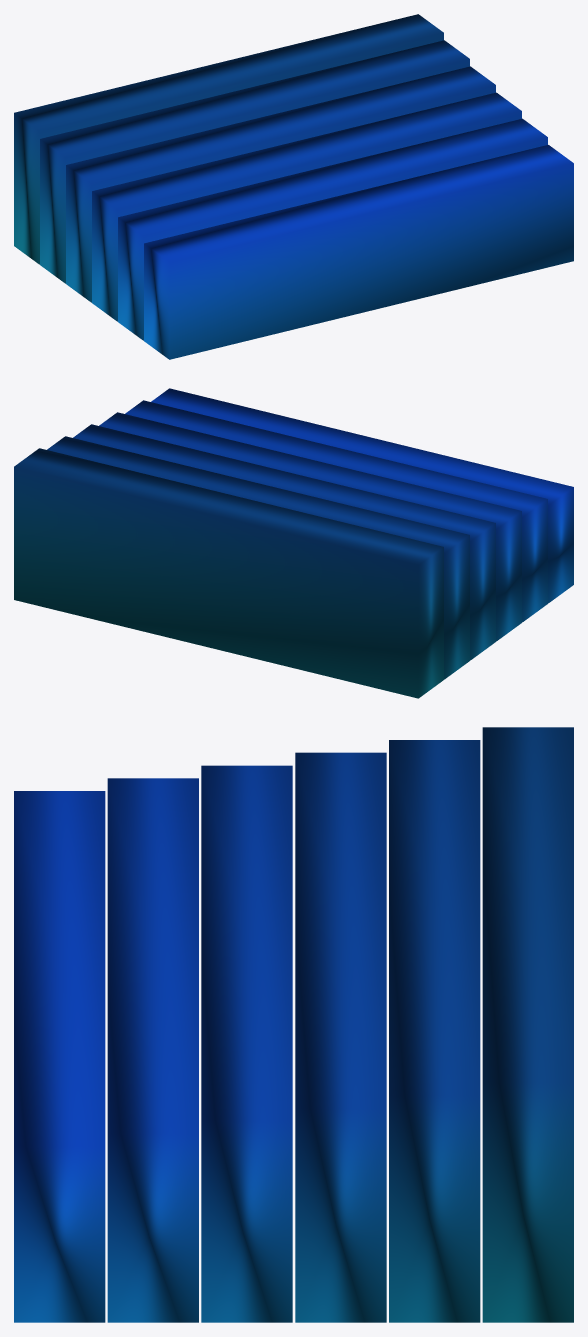
The model's file is court_water_steps.glb.
The picture shows the model from 3 angles, top to bottom: view 1: azimuth 30°, elevation 25°; view 2: azimuth 150°, elevation 25°; view 3: azimuth 270°, elevation 25°; orthographic projection. The views are drawn at different scales.
Visible parts, largest first — view 1: court_water_steps; view 2: court_water_steps; view 3: court_water_steps.
Boxes of the visible parts, x1,y1,x2,y2 form: court_water_steps: (14, 14, 573, 359); court_water_steps: (14, 388, 573, 698); court_water_steps: (14, 727, 573, 1322).
Size of what is drawn, in the model's own units: 5.98 by 1.88 by 3.98.
